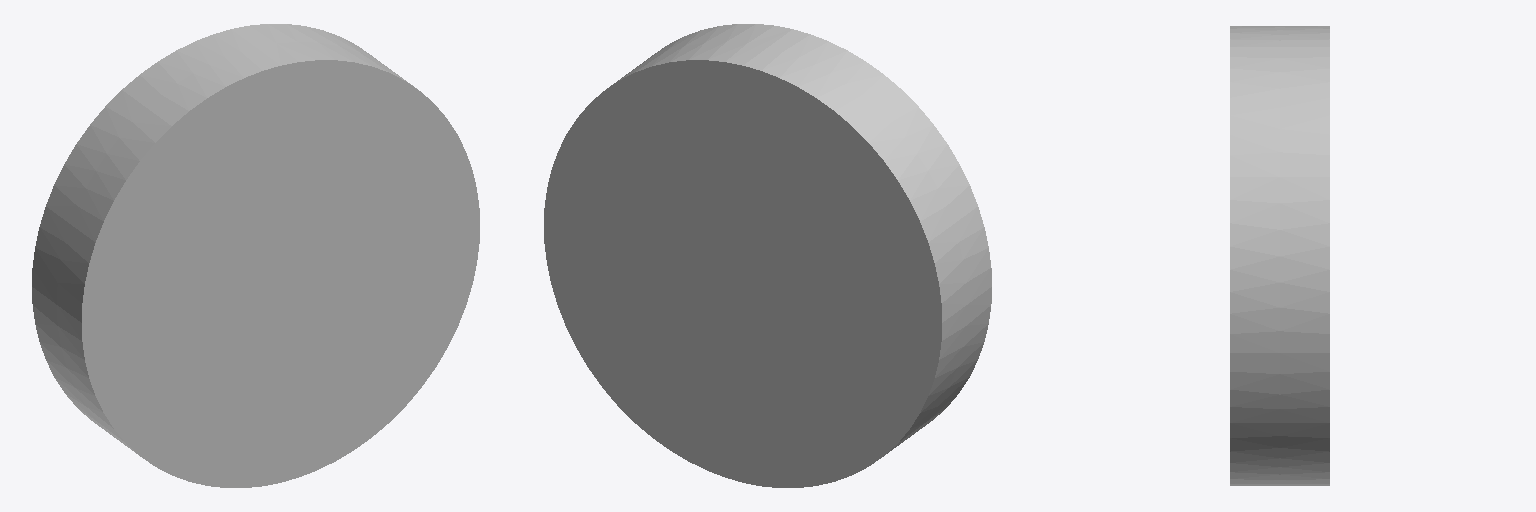
The model's file is roda.obj.
3 renders of one model, left to right at view 1: azimuth 30°, elevation 25°; view 2: azimuth 150°, elevation 25°; view 3: azimuth 270°, elevation 25°, orthographic.
Parts seen in each view (by area): view 1: Body1; view 2: Body1; view 3: Body1.
Boxes of the visible parts, x1,y1,x2,y2 form: Body1: [32, 24, 479, 487]; Body1: [544, 24, 991, 487]; Body1: [1230, 26, 1329, 485].
Bounding box in the file's own units: 0.1016 × 0.1016 × 0.022.